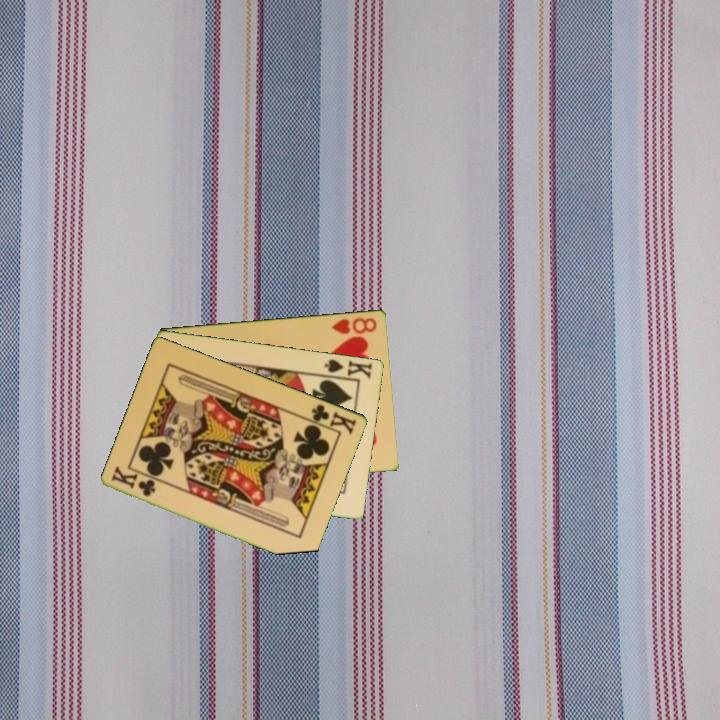8h: (328, 314, 380, 337)
Kc: (302, 400, 360, 437), (108, 464, 159, 499)
Ks: (321, 355, 375, 381)
